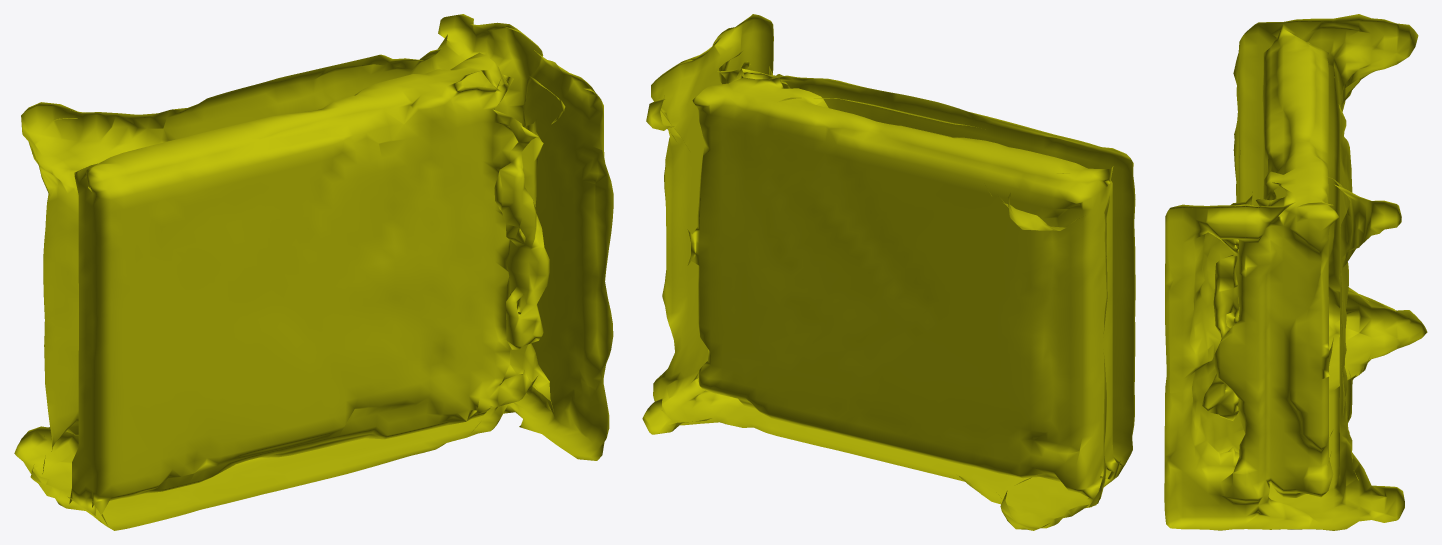
The picture shows the model from 3 angles, left to right: view 1: azimuth 30°, elevation 25°; view 2: azimuth 150°, elevation 25°; view 3: azimuth 270°, elevation 25°; orthographic projection. The views are drawn at different scales.
Visible parts, largest first — view 1: world; view 2: world; view 3: world.
Boxes of the visible parts, <box> form: world: <box>14,14,613,530</box>; world: <box>642,14,1135,530</box>; world: <box>1164,14,1427,530</box>.
Bounding box in the file's own units: 38.9 × 28.85 × 20.9.
